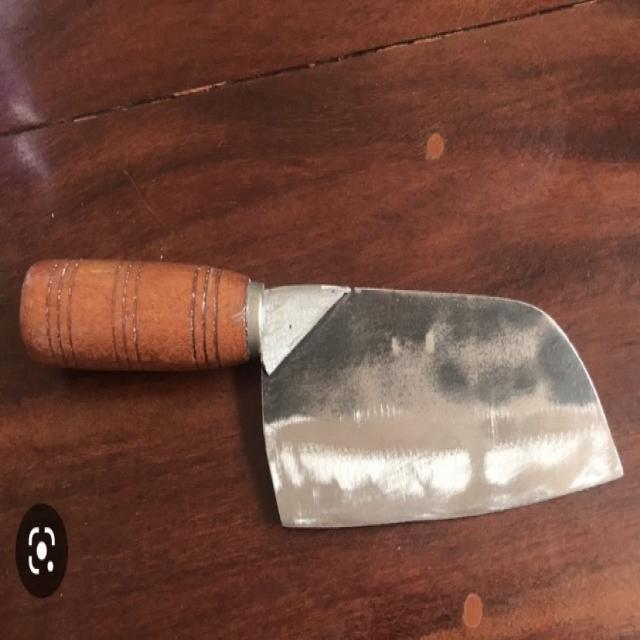Knife: (9, 245, 628, 540)
